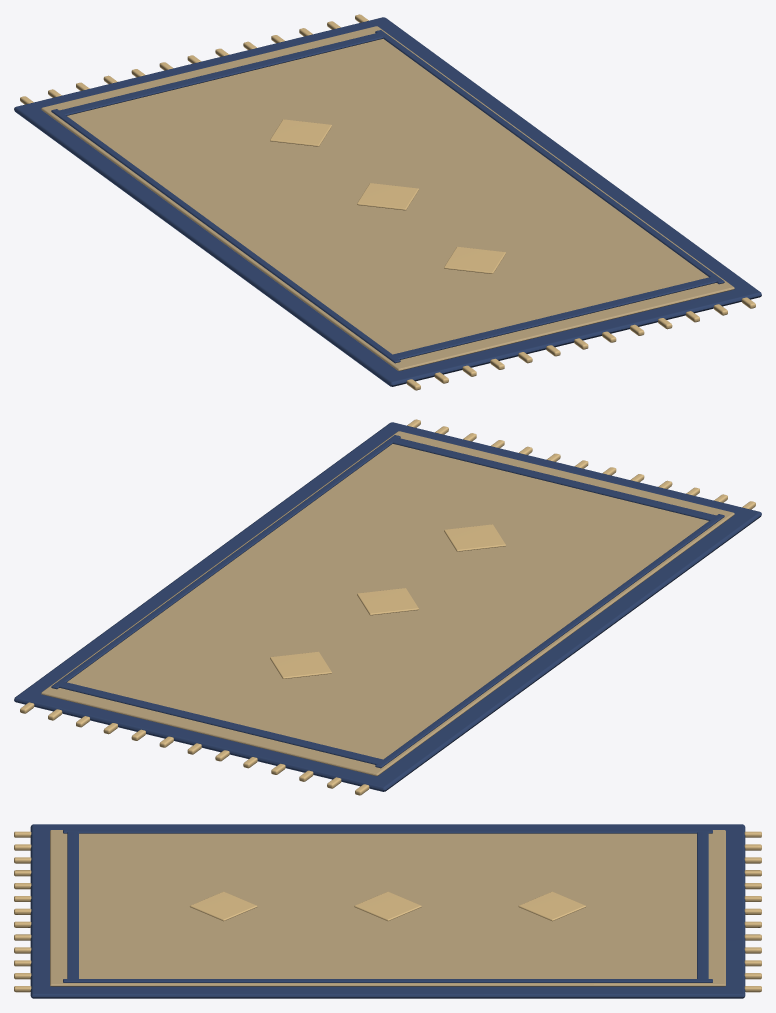
File: bedroom-rug.glb
The picture shows the model from 3 angles, top to bottom: view 1: azimuth 30°, elevation 25°; view 2: azimuth 150°, elevation 25°; view 3: azimuth 270°, elevation 25°; orthographic projection. The views are drawn at different scales.
Visible parts, largest first — view 1: bedroom_rug_pivot_Mesh; view 2: bedroom_rug_pivot_Mesh; view 3: bedroom_rug_pivot_Mesh.
Boxes of the visible parts, bbox=[...] form: bedroom_rug_pivot_Mesh: bbox=[14, 14, 761, 390]; bedroom_rug_pivot_Mesh: bbox=[14, 419, 761, 795]; bedroom_rug_pivot_Mesh: bbox=[14, 824, 761, 998].
Size of the model in its own units: 2.01 by 0.048 by 3.71.
